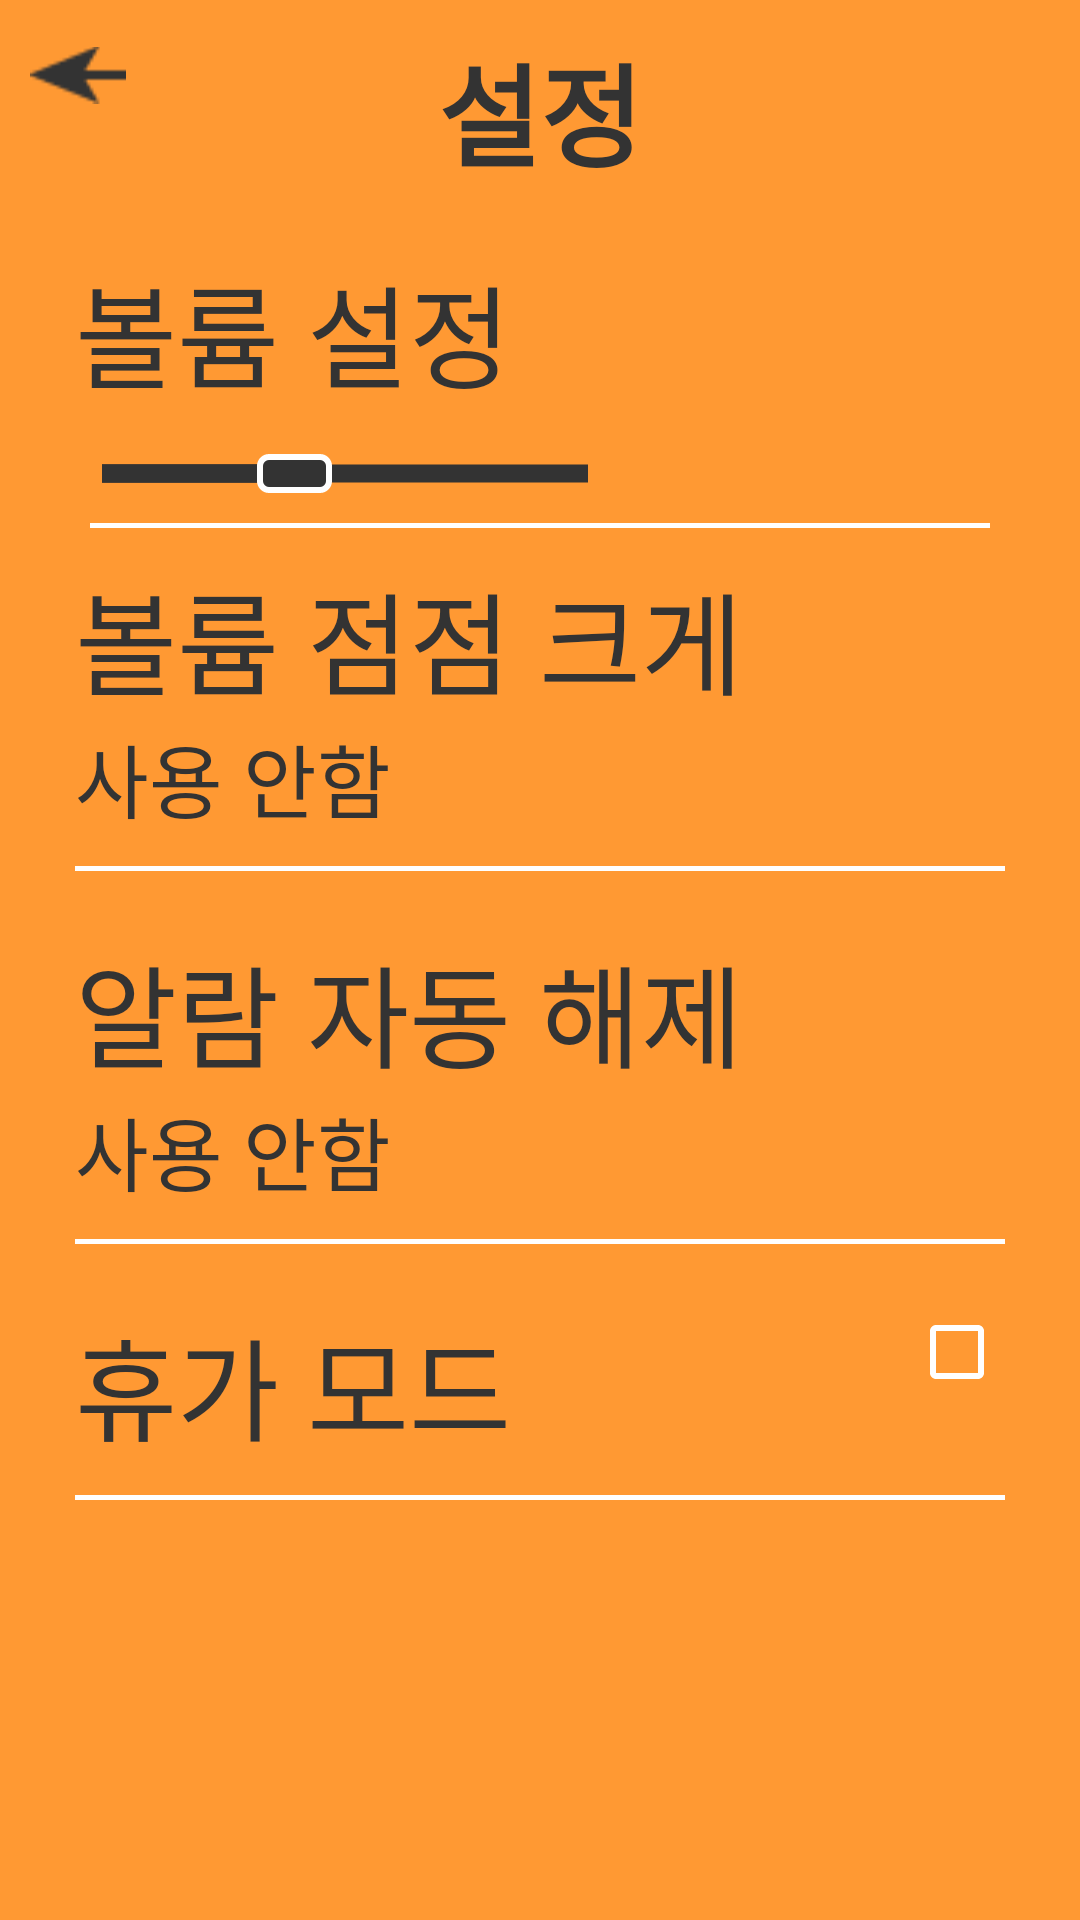

Point at icon controls on the screen. Image size 1080 x 1920, points as (x,y).
back: (78,75)
